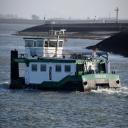tugboat: (10, 25, 123, 95)
